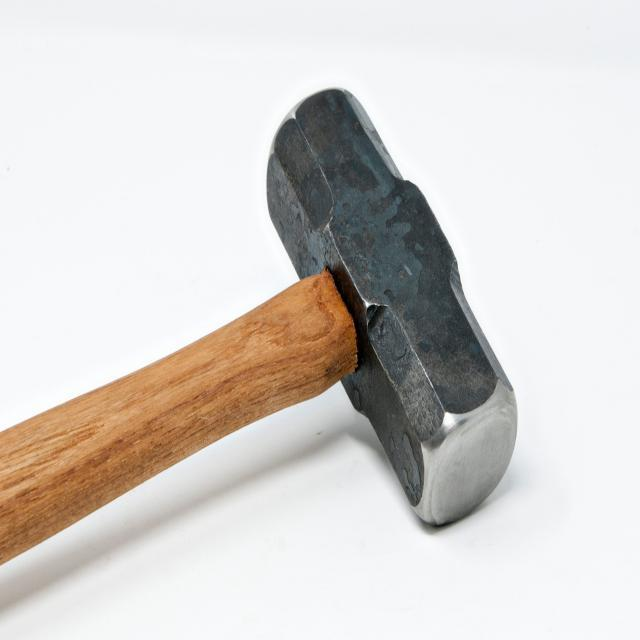hammer: (0, 80, 525, 572)
